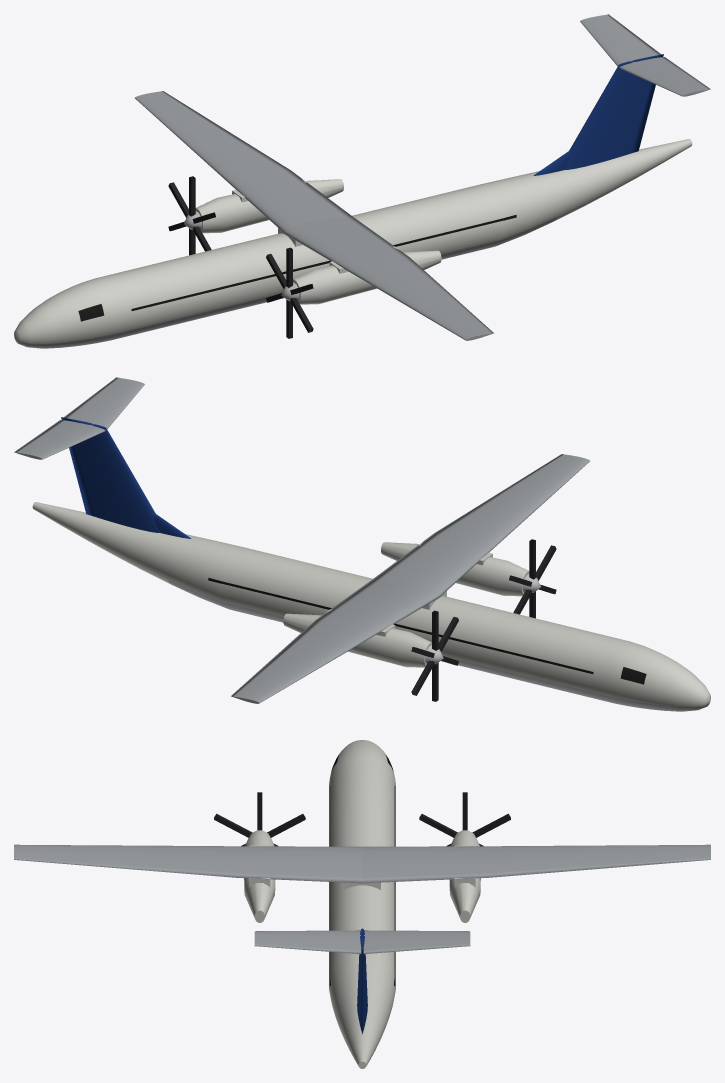
3 renders of one model, top to bottom at view 1: azimuth 30°, elevation 25°; view 2: azimuth 150°, elevation 25°; view 3: azimuth 270°, elevation 25°, orthographic. The views are drawn at different scales.
Visible parts, largest first — view 1: dh8d; view 2: dh8d; view 3: dh8d.
Boxes of the visible parts, x1=… form: dh8d: x1=14, y1=14, x2=710, y2=348; dh8d: x1=14, y1=377, x2=710, y2=711; dh8d: x1=14, y1=740, x2=710, y2=1068.
Size of the model in its own units: 32.8 by 7.05 by 27.83.
